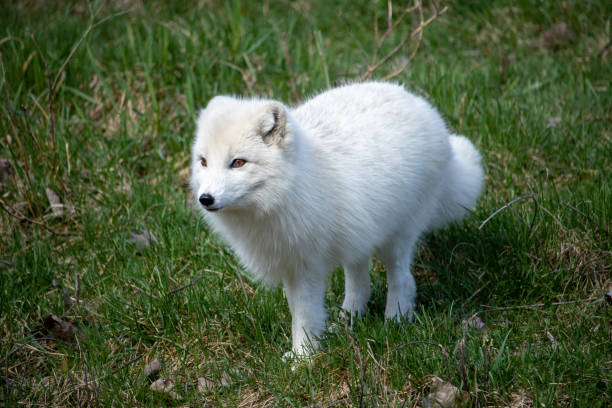arcticfox: (186, 125, 280, 228)
